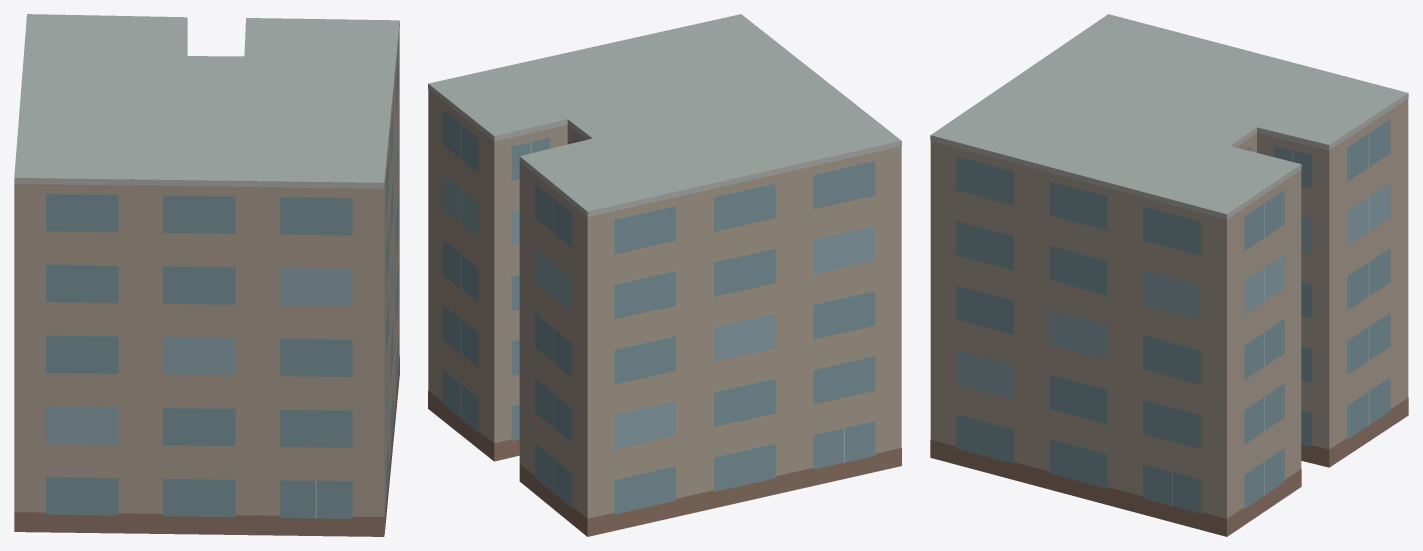
File: survey-upis-32737741.glb
3 views of the same model, side by side, from view 1: azimuth 30°, elevation 25°; view 2: azimuth 150°, elevation 25°; view 3: azimuth 270°, elevation 25° (orthographic). The views are drawn at different scales.
Parts seen in each view (by area): view 1: survey-upis-32737741.tmp; view 2: survey-upis-32737741.tmp; view 3: survey-upis-32737741.tmp.
Boxes of the visible parts, bbox=[...] form: survey-upis-32737741.tmp: bbox=[14, 14, 399, 536]; survey-upis-32737741.tmp: bbox=[428, 14, 901, 536]; survey-upis-32737741.tmp: bbox=[930, 14, 1408, 536].
Bounding box in the file's own units: 19.19 × 14.4 × 19.35.
